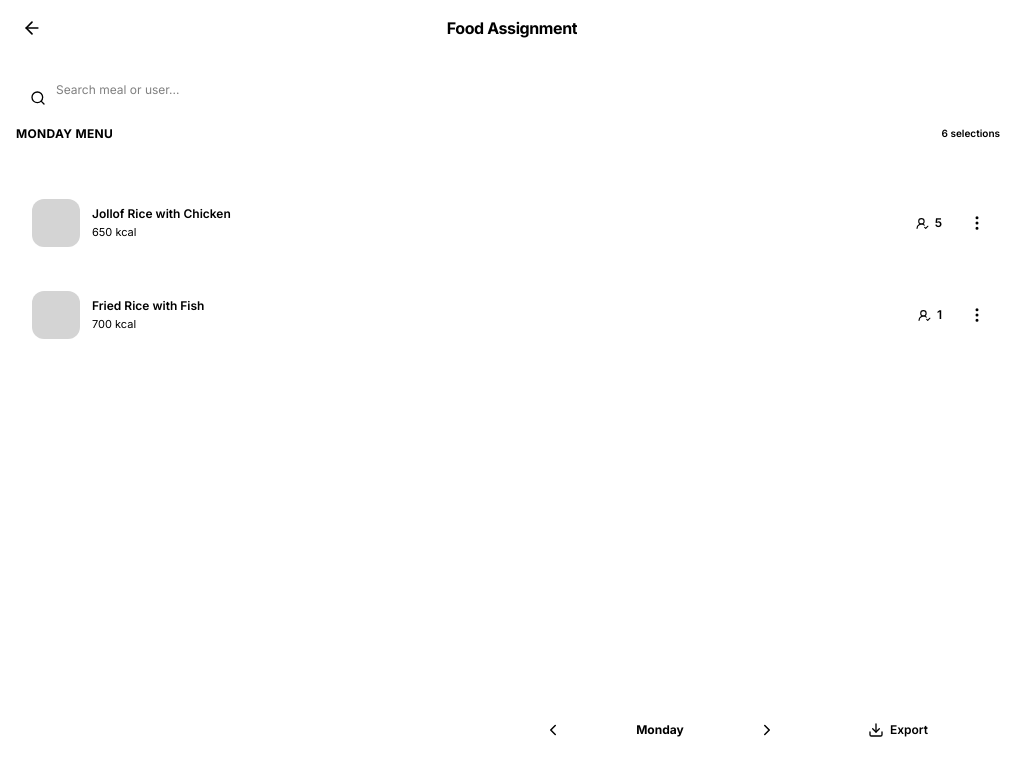
SelectionActivity (Food Assignment) › displays guest selections as "Guest" and matches search by keyword "guest" only
Type "hubert" into the field with placeholder "Search meal or user..." at (512, 90), box [16, 72, 1008, 108]
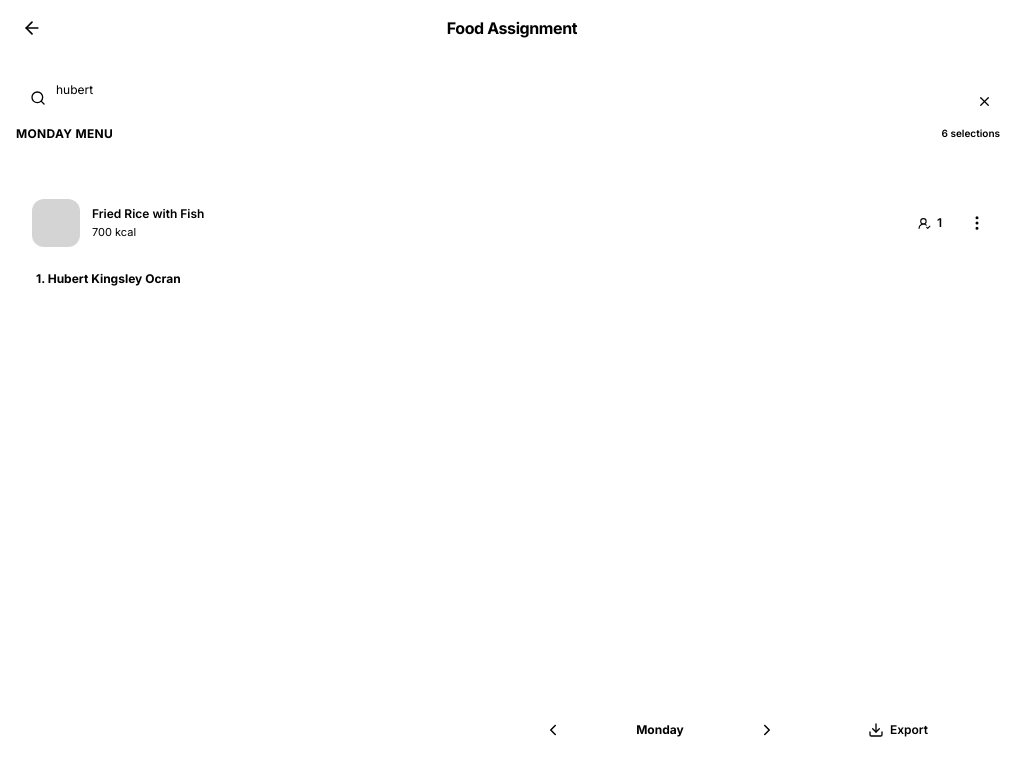
Expected: the heading "Fried Rice with Fish" is shown, [92, 206, 204, 220]
Expected: the heading "Jollof Rice with Chicken" is gone
Expected: the text "1. Hubert Kingsley Ocran" is shown, [36, 271, 181, 287]
# When searching for "guest", the guest meal shows with "Guest (qty)" as the recipient name (not creator name)
Replace the text in the field with placeholder "Search meal or user..." with "guest" at (512, 90), box [16, 72, 1008, 108]
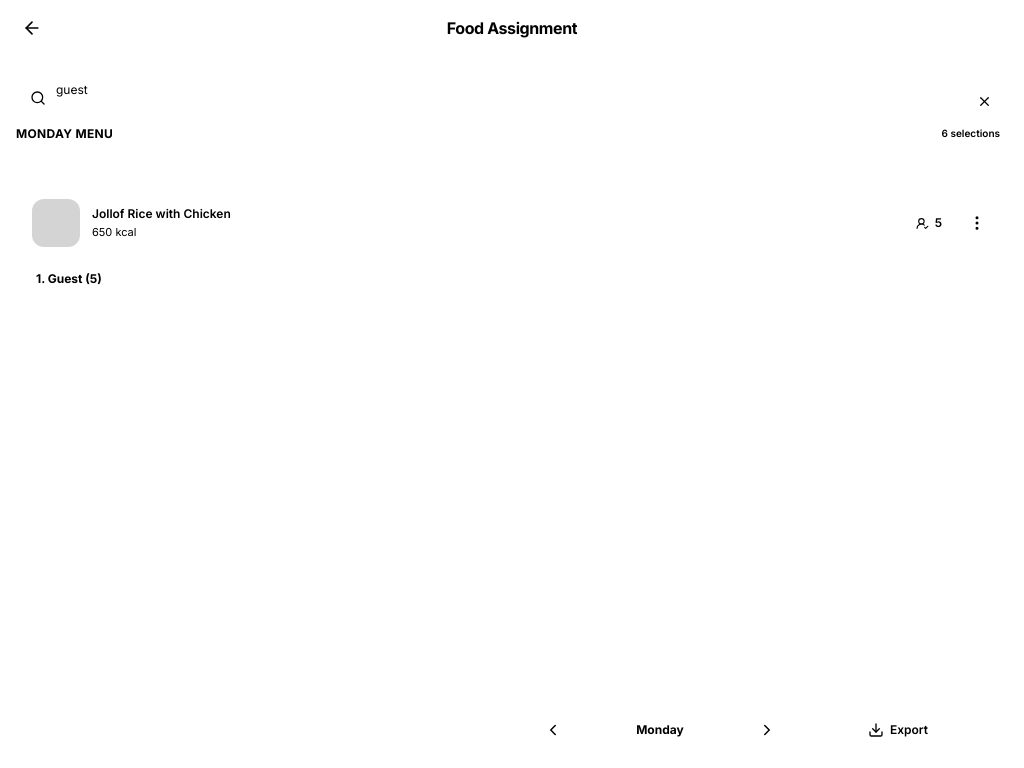
Expected: the heading "Jollof Rice with Chicken" is shown, [92, 206, 231, 220]
Expected: the heading "Fried Rice with Fish" is gone
Expected: the text "1. Guest (5)" is shown, [36, 271, 102, 287]
